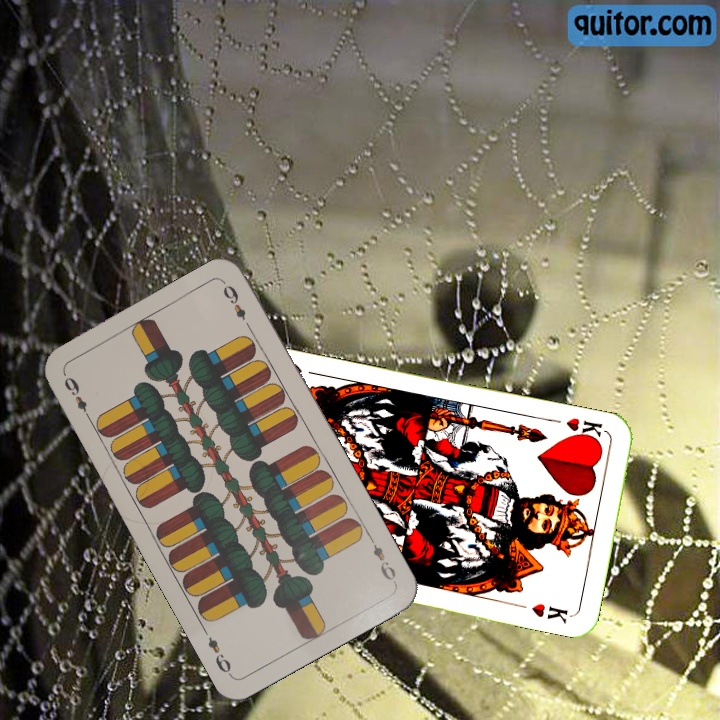E9: (59, 372, 94, 424), (364, 532, 399, 583)
HK: (562, 413, 605, 445)
